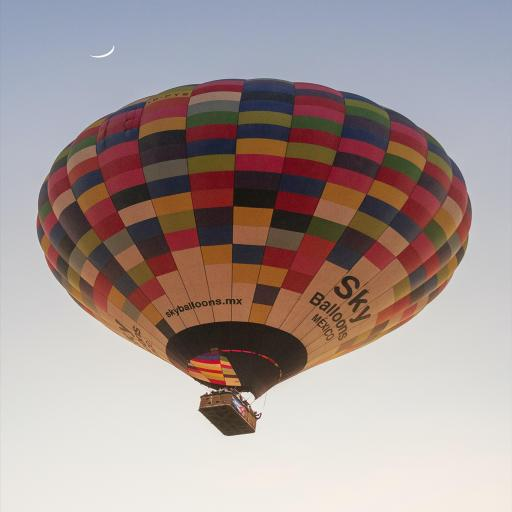hot air ballon: (34, 78, 473, 438)
